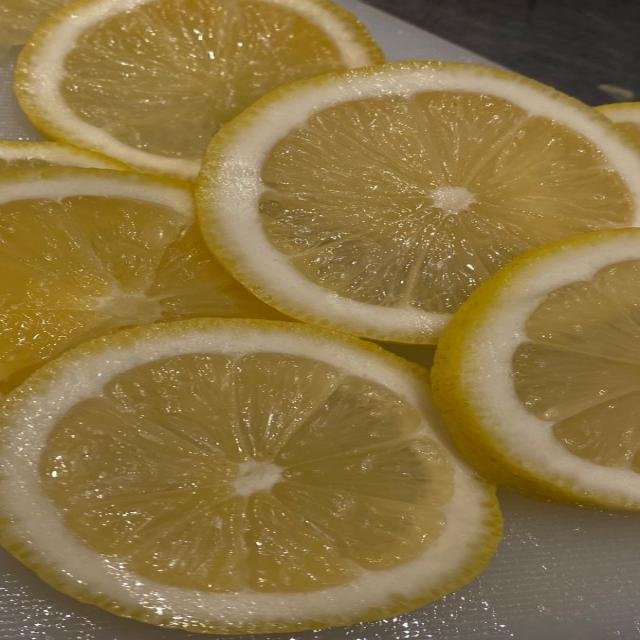lemon: (0, 319, 500, 633), (198, 62, 639, 342), (16, 0, 382, 178), (0, 168, 276, 391), (433, 229, 639, 509), (0, 141, 126, 171), (0, 0, 72, 50), (596, 102, 639, 149)
